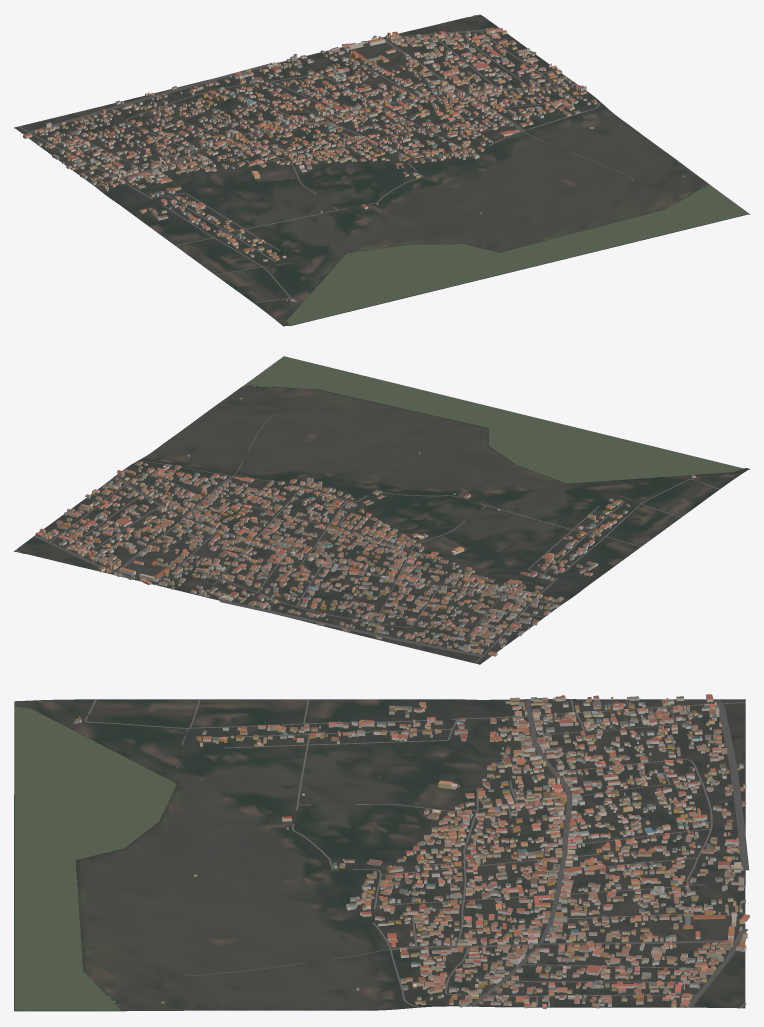
3 views of the same model, one above another, from view 1: azimuth 30°, elevation 25°; view 2: azimuth 150°, elevation 25°; view 3: azimuth 270°, elevation 25° (orthographic). The views are drawn at different scales.
Visible parts, largest first — view 1: ground, buildings, water, roads; view 2: ground, buildings, water, roads; view 3: ground, buildings, water, roads.
Boxes of the visible parts, left/top/right/bottom form: ground: left=14, top=14, right=749, bottom=326; buildings: left=23, top=27, right=684, bottom=301; water: left=286, top=15, right=748, bottom=325; roads: left=18, top=29, right=633, bottom=302; ground: left=14, top=356, right=749, bottom=664; buildings: left=35, top=397, right=698, bottom=656; water: left=15, top=356, right=743, bottom=552; roads: left=33, top=414, right=719, bottom=663; ground: left=14, top=699, right=745, bottom=1011; buildings: left=73, top=694, right=749, bottom=1008; water: left=14, top=706, right=746, bottom=1010; roads: left=85, top=699, right=749, bottom=1007.
Bounding box in the file's own units: 1414 × 28.67 × 1411.
